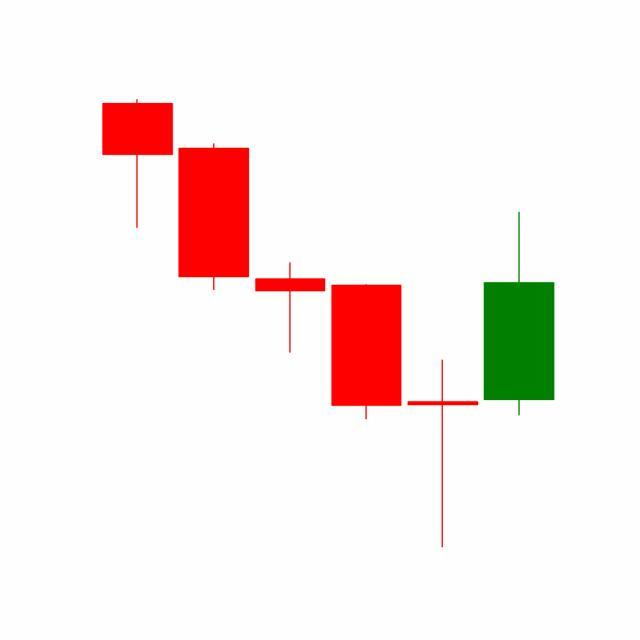Three Inside Up-Down: (326, 207, 555, 548)
